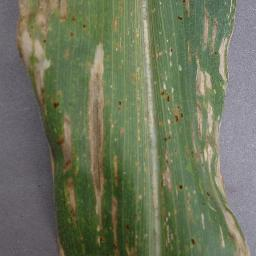Gray_Leaf_Spot: (33, 93, 81, 256), (83, 33, 111, 256), (193, 54, 232, 191), (11, 0, 54, 92), (133, 0, 147, 216), (214, 191, 252, 256), (203, 0, 242, 53), (110, 145, 125, 256), (158, 125, 182, 193), (158, 192, 176, 256), (157, 87, 184, 126), (113, 0, 125, 53), (55, 0, 72, 27), (178, 0, 194, 21), (150, 46, 175, 59), (126, 237, 143, 256), (187, 192, 195, 225), (189, 233, 201, 250), (115, 95, 126, 111), (185, 36, 192, 60), (201, 192, 214, 204), (117, 124, 127, 136), (63, 47, 73, 59), (124, 219, 132, 233), (65, 30, 74, 41), (201, 213, 206, 230), (80, 22, 88, 31), (71, 14, 78, 24)
